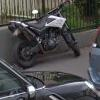Motorcycle: (6, 8, 81, 68)
